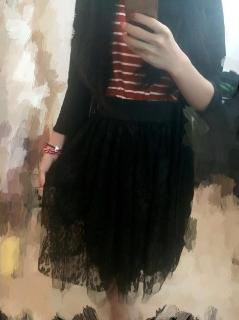long sleeve outwear: (52, 0, 239, 173)
skirt: (35, 95, 195, 307)
